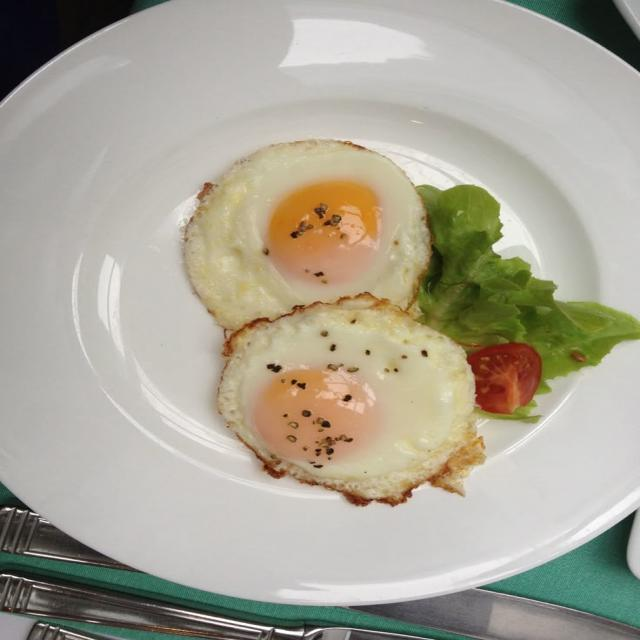lettuce: (417, 185, 639, 392), (477, 401, 540, 422)
sliced_tomato: (468, 343, 541, 414)
